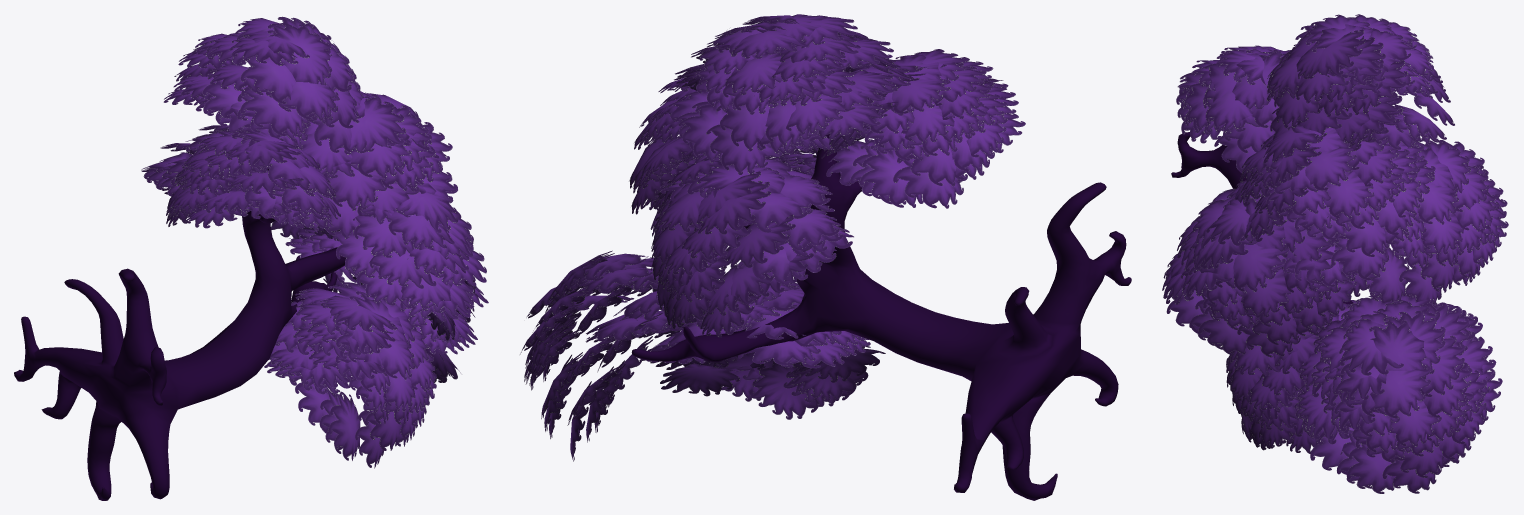
File: Tree03_Stone.fbx
3 renders of one model, left to right at view 1: azimuth 30°, elevation 25°; view 2: azimuth 150°, elevation 25°; view 3: azimuth 270°, elevation 25°, orthographic. The views are drawn at different scales.
Parts seen in each view (by area): view 1: Cube.006, Circle.605, Circle.523, Circle.627, Circle.238, Circle.830, Circle.507, Circle.831, Circle.790, Circle.768, Circle.587, Circle.505 (+58 smaller); view 2: Cube.006, Circle.784, Circle.565, Circle.653, Circle.785, Circle.531, Circle.651, Circle.581, Circle.516, Circle.498, Circle.515, Circle.518 (+54 smaller); view 3: Circle.700, Circle.707, Circle.708, Circle.800, Cube.006, Circle.597, Circle.598, Circle.705, Circle.718, Circle.704, Circle.801, Circle.505 (+131 smaller).
Boxes of the visible parts, bbox=[...] form: Cube.006: bbox=[14, 168, 346, 500]; Circle.605: bbox=[343, 94, 406, 151]; Circle.523: bbox=[240, 86, 309, 136]; Circle.627: bbox=[324, 166, 386, 210]; Circle.238: bbox=[240, 55, 295, 103]; Circle.830: bbox=[352, 215, 413, 257]; Circle.507: bbox=[266, 81, 338, 121]; Circle.831: bbox=[369, 250, 440, 288]; Circle.790: bbox=[386, 210, 454, 248]; Circle.768: bbox=[328, 391, 360, 460]; Circle.587: bbox=[351, 137, 411, 178]; Circle.505: bbox=[267, 23, 332, 81]; Cube.006: bbox=[631, 134, 1131, 500]; Circle.784: bbox=[750, 361, 819, 419]; Circle.565: bbox=[859, 145, 923, 207]; Circle.653: bbox=[723, 214, 795, 268]; Circle.785: bbox=[660, 363, 739, 396]; Circle.531: bbox=[706, 113, 783, 175]; Circle.651: bbox=[694, 181, 771, 234]; Circle.581: bbox=[893, 157, 967, 208]; Circle.516: bbox=[716, 101, 777, 151]; Circle.498: bbox=[725, 49, 782, 94]; Circle.515: bbox=[678, 100, 727, 162]; Circle.518: bbox=[786, 89, 851, 134]; Circle.700: bbox=[1369, 366, 1431, 418]; Circle.707: bbox=[1369, 320, 1426, 370]; Circle.708: bbox=[1339, 319, 1403, 375]; Circle.800: bbox=[1233, 244, 1289, 292]; Cube.006: bbox=[1171, 132, 1353, 304]; Circle.597: bbox=[1304, 147, 1356, 190]; Circle.598: bbox=[1323, 171, 1374, 218]; Circle.705: bbox=[1420, 329, 1465, 396]; Circle.718: bbox=[1346, 440, 1395, 493]; Circle.704: bbox=[1383, 311, 1445, 379]; Circle.801: bbox=[1242, 268, 1291, 317]; Circle.505: bbox=[1302, 29, 1366, 78].
Bounding box in the file's own units: 9.44 × 6.93 × 8.69.
2 materials, 1 textured.
